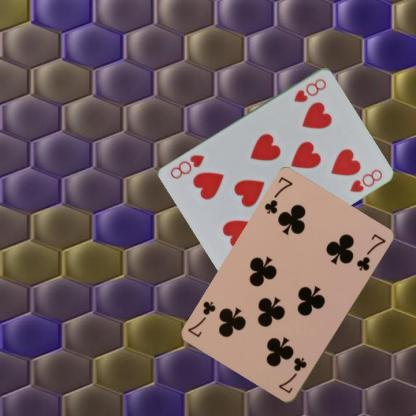7c: (275, 355, 308, 395), (262, 175, 294, 216)
8h: (291, 75, 328, 104)
